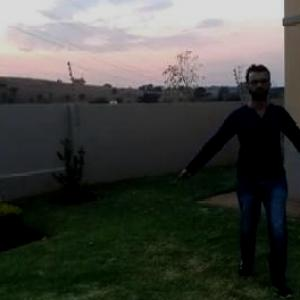land: (177, 62, 300, 280)
